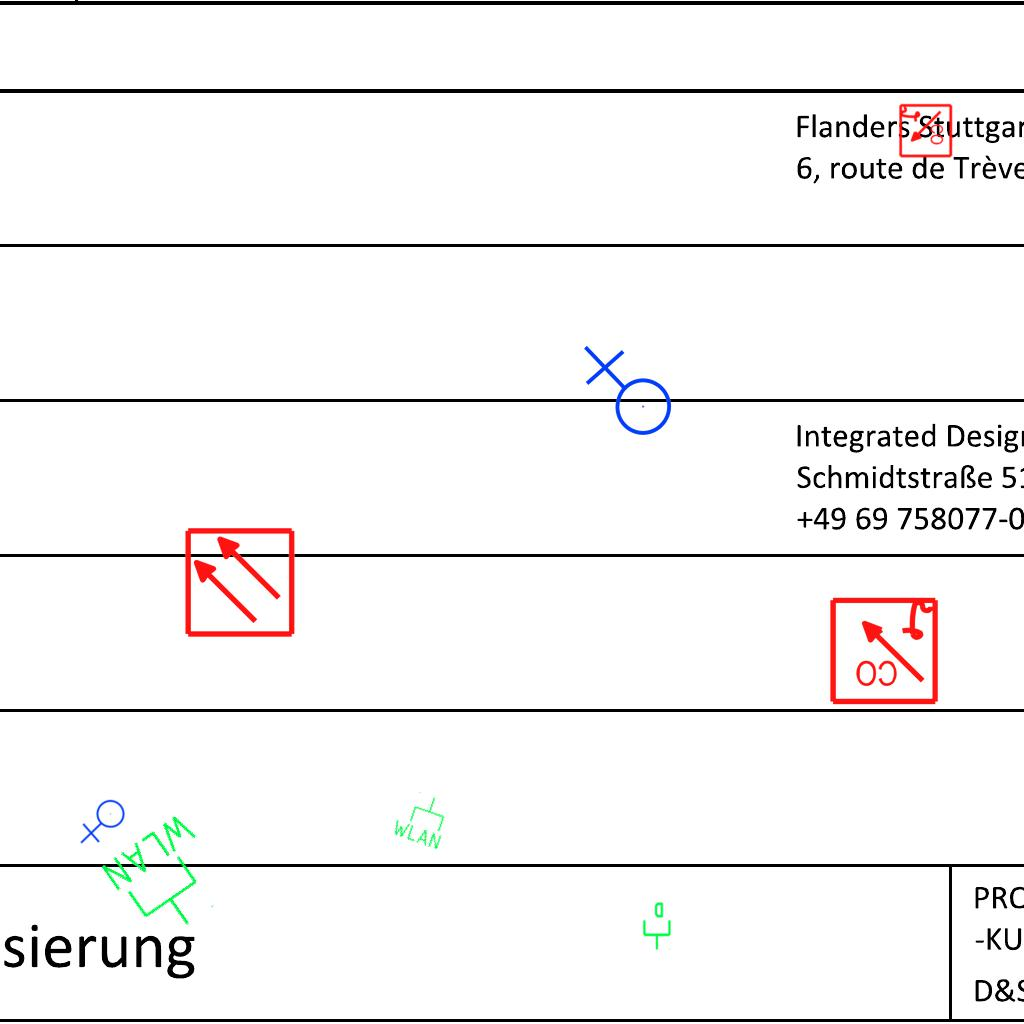Datenanschluss_einfach: (639, 901, 673, 951)
Elektroanschluss_allgemein_230V_Geraeteanschlussdose_230V: (579, 345, 673, 444), (80, 799, 129, 846)
RMO_Rauchmelder_optischer: (183, 526, 296, 639)
ROA_Rauchmelder_optisch_mit_Signalgeber_(Sockelsirene): (827, 593, 940, 706), (897, 103, 953, 159)
WLAN: (95, 805, 241, 952), (388, 785, 456, 853)
